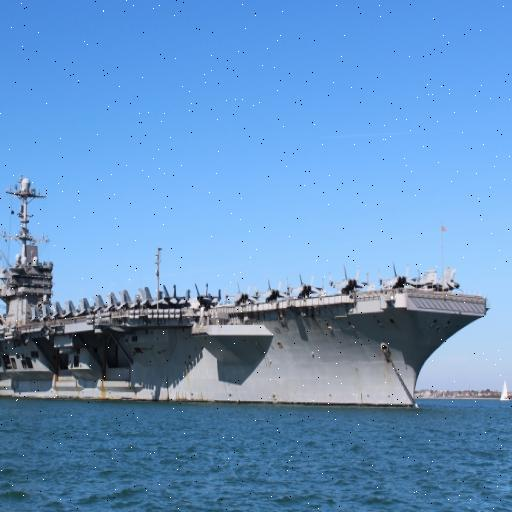Portanaves: (1, 173, 492, 418)
